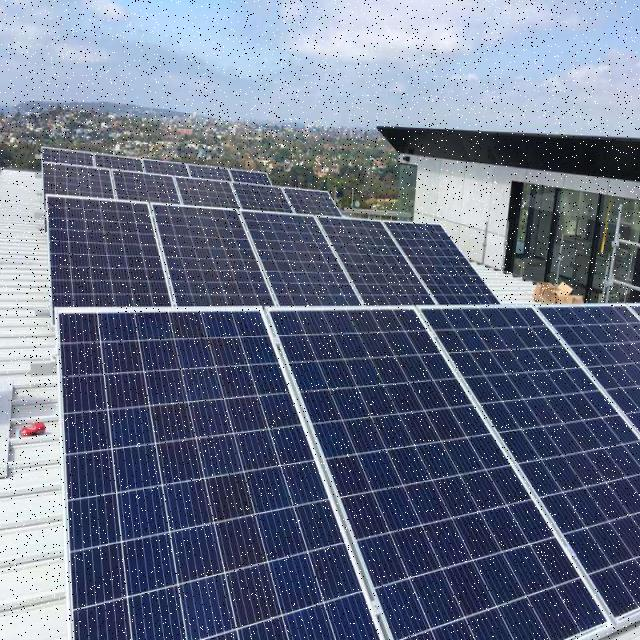clean: (44, 153, 640, 640)
